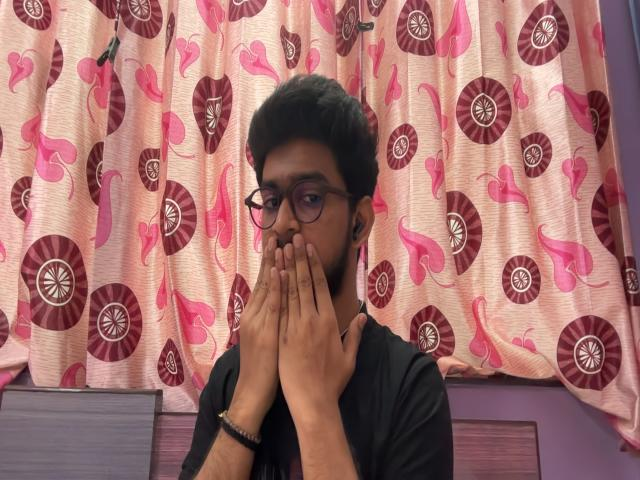Thanks: (233, 231, 375, 406)
